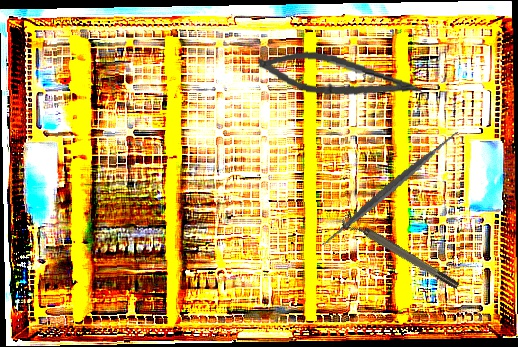Fixation Ring: (338, 210, 462, 297)
Micro Scissor: (254, 45, 427, 105)
Spatula Surgical: (313, 110, 468, 267)
